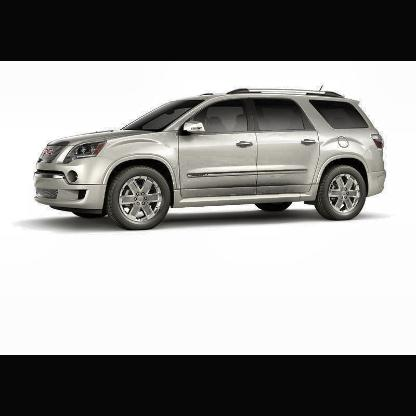GMC Acadia SUV 2012: (34, 85, 387, 231)
